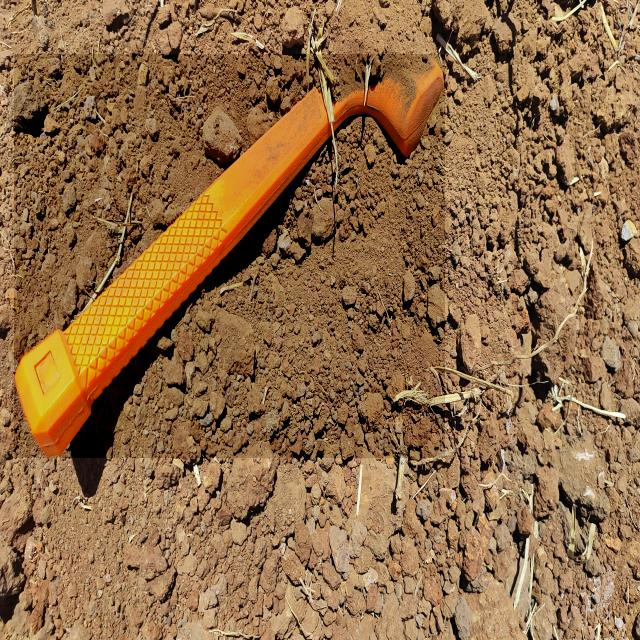Orange_hammer: (14, 54, 445, 458)
